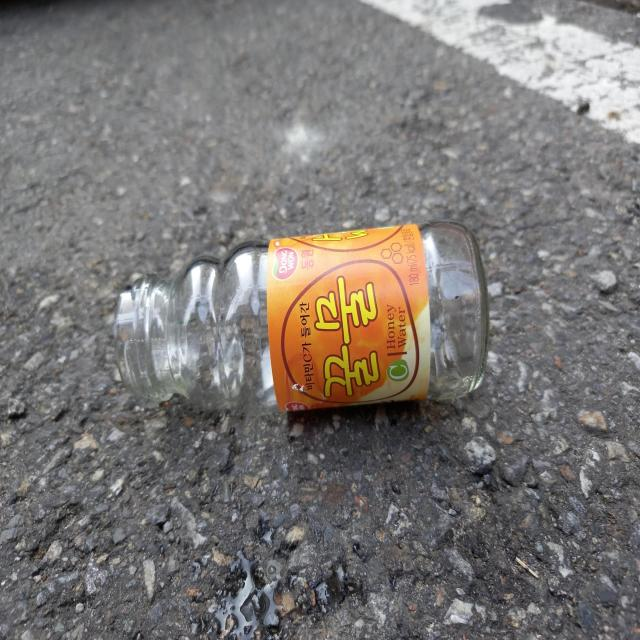glass: (114, 221, 489, 414)
